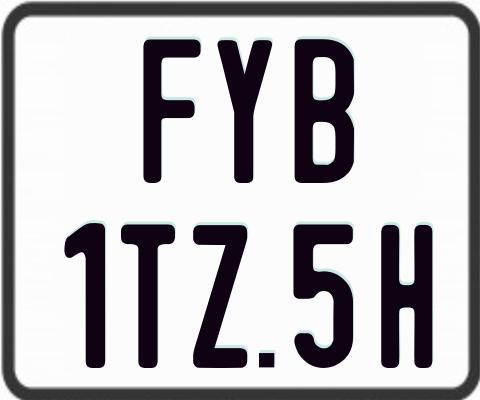1: (61, 223, 105, 370)
5: (292, 224, 355, 370)
B: (294, 37, 354, 182)
F: (141, 37, 205, 183)
H: (379, 224, 436, 367)
T: (121, 221, 176, 366)
Y: (216, 40, 274, 186)
Z: (193, 222, 253, 368)
